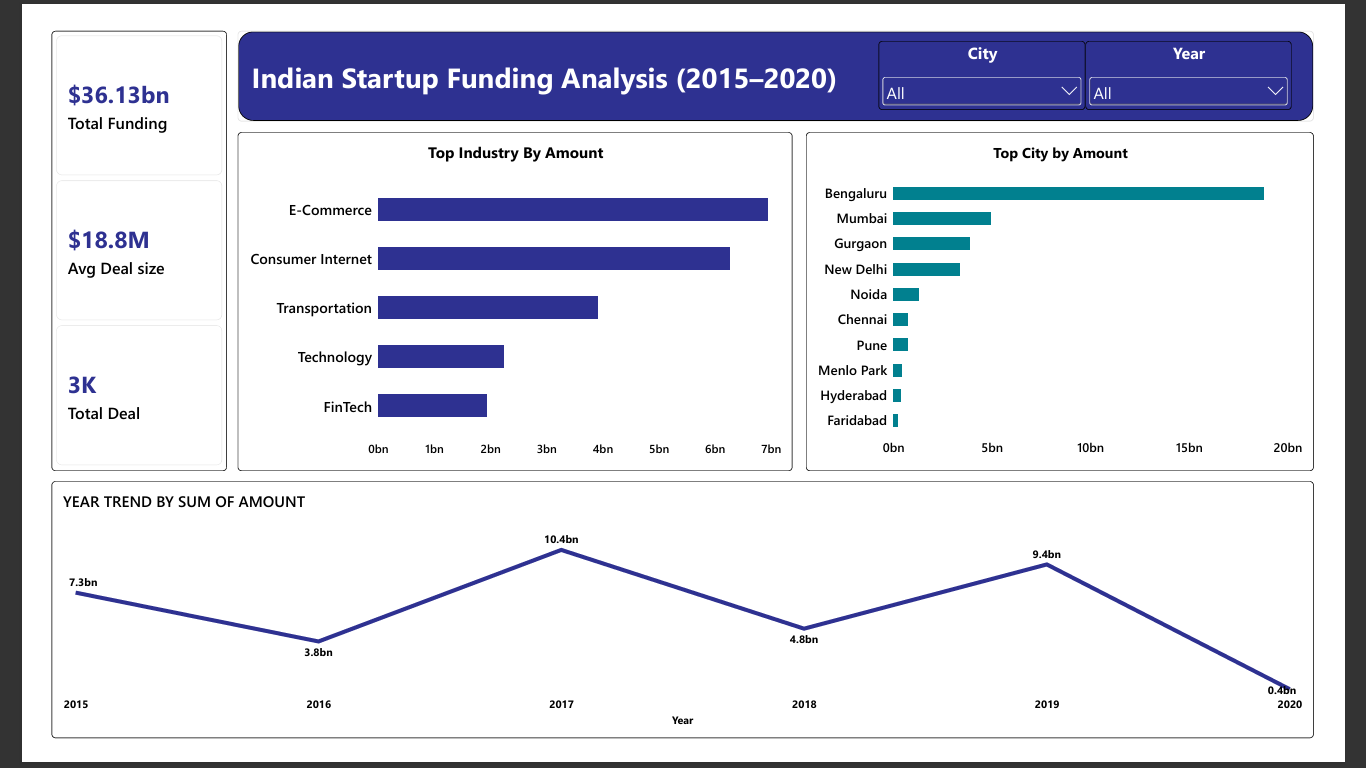

The dashboard page shown, as its layout file describes it:
{"tool":"powerbi","page":{"name":"Overview","canvas":[1920,1080],"ordinal":0},"visuals":[{"type":"cardVisual","fields":{"Data":["startup_funding (1).Total Funding","startup_funding (1).Avg Deal size","startup_funding (1).Total Deal"]},"box":[19.6,15.7,261.2,655.9],"z":0},{"type":"lineChart","title":"YEAR TREND BY AMOUNT","fields":{"Category":["Date Table.Year"],"Y":["Sum(startup_funding (1).Amount Clean)"]},"box":[19.6,687.3,1879.2,382.9],"z":1000},{"type":"clusteredBarChart","title":"Top City by Amount","fields":{"Category":["startup_funding (1).City Location"],"Y":["Sum(startup_funding (1).Amount Clean)"]},"box":[1142.8,166.9,756,504.7],"z":2000},{"type":"clusteredBarChart","title":"Top Industry By Amount","fields":{"Y":["Sum(startup_funding (1).Amount Clean)"],"Category":["startup_funding (1).Industry_clean"]},"box":[296.5,166.9,826.7,504.7],"z":3000},{"type":"shape","box":[296.5,15.7,1602.3,135.5],"z":4000},{"type":"slicer","title":"City ","fields":{"Values":["startup_funding (1).City Location"]},"box":[1251.1,31,307.6,103.2],"z":5000},{"type":"slicer","title":"Year","fields":{"Values":["Date Table.Year"]},"box":[1558.7,31,307.6,103.2],"z":6000}]}

Visuals, with their boxes in screenshot pixels (x1, y1, x2, y2), scaled from the page's 1920x1080 canvas onto the 1366x768 screenshot:
cardVisual - startup_funding (1).Total Funding x startup_funding (1).Avg Deal size: [left=14, top=11, right=200, bottom=478]
"YEAR TREND BY AMOUNT" lineChart: [left=14, top=489, right=1351, bottom=761]
"Top City by Amount" clusteredBarChart: [left=813, top=119, right=1351, bottom=478]
"Top Industry By Amount" clusteredBarChart: [left=211, top=119, right=799, bottom=478]
shape: [left=211, top=11, right=1351, bottom=108]
"City " slicer: [left=890, top=22, right=1109, bottom=95]
"Year" slicer: [left=1109, top=22, right=1328, bottom=95]
